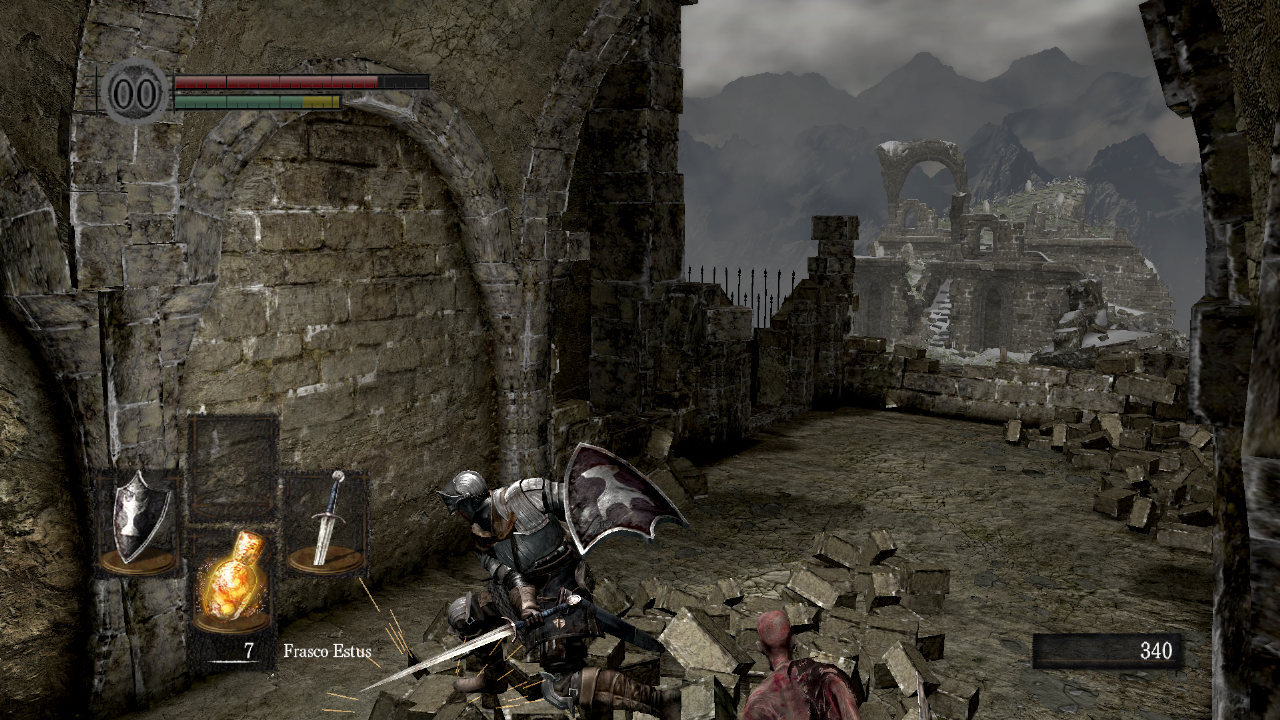hollow: (743, 610, 863, 720)
player: (358, 441, 694, 720)
